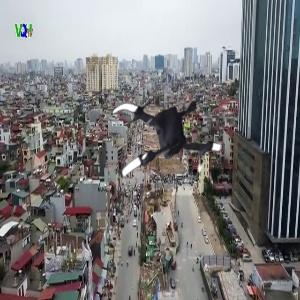drone: (106, 73, 235, 202)
